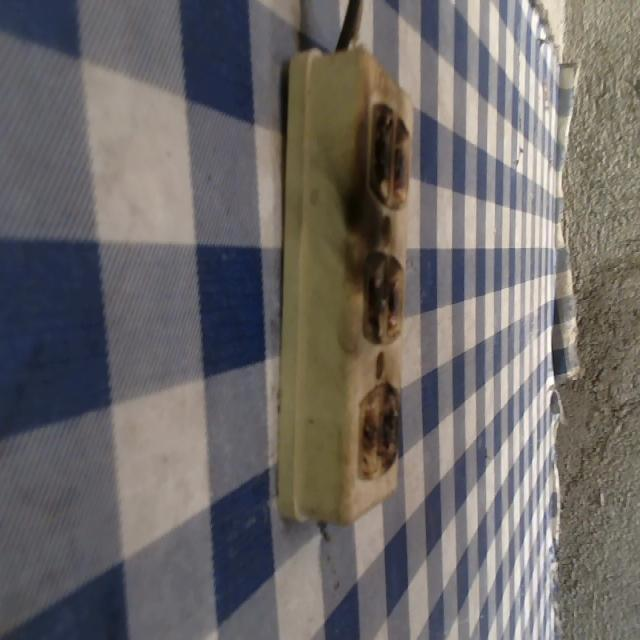-: (365, 96, 410, 211), (353, 379, 399, 480), (360, 246, 406, 346)
